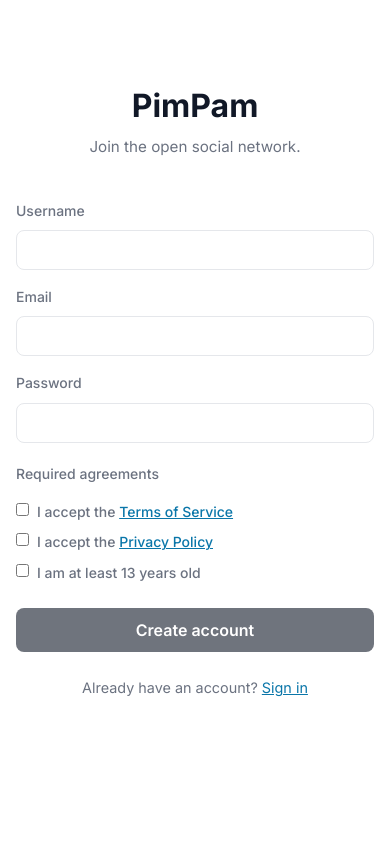
Register › shows error when registration fails with validation array
In the field labelled "Username": (195, 250) [16,230,374,270], type "newuser"
In the field labelled "Email": (195, 336) [16,316,374,356], type "new@example.com"
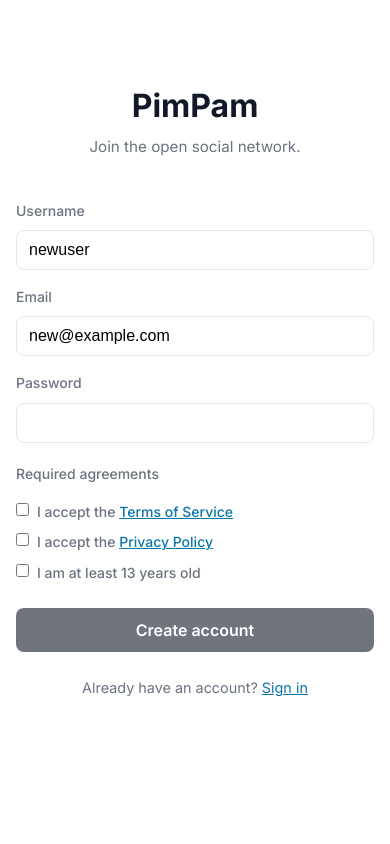
In the password field labelled "Password": (195, 423) [16,403,374,443], type "securepass"
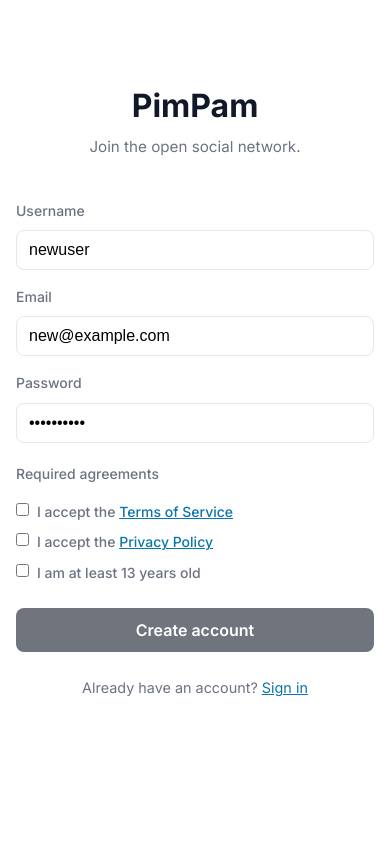
Click the checkbox labelled "I accept the Terms of Service": (22, 510) [16,503,29,516]
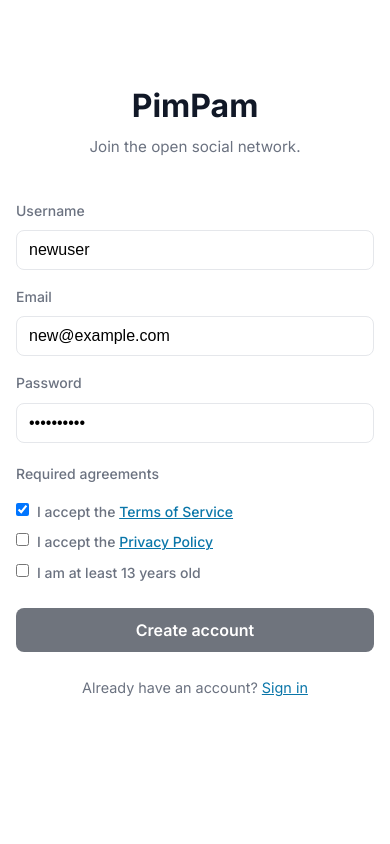
Click the checkbox labelled "I accept the Privacy Policy": (22, 540) [16,534,29,546]
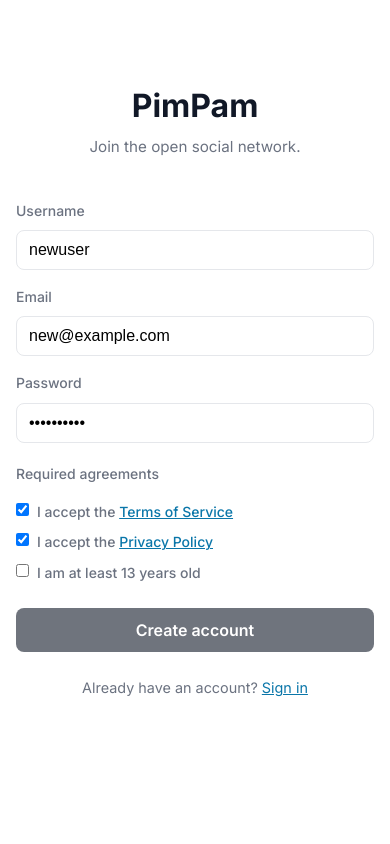
Click the checkbox labelled "I am at least 13 years old": (22, 570) [16,564,29,577]
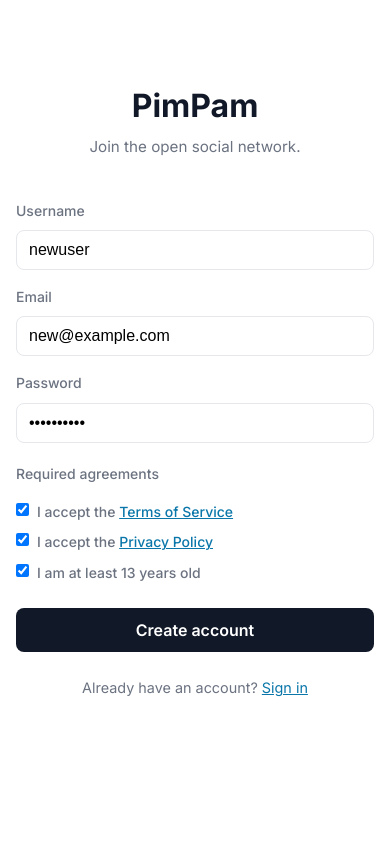
Click the button "Create account": (195, 630) [16,608,374,652]
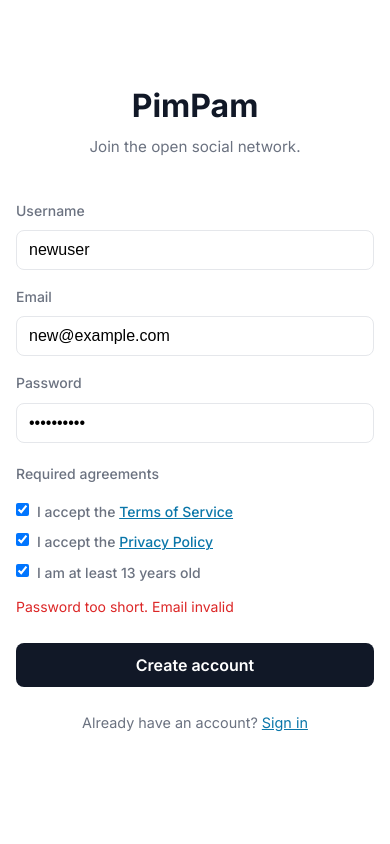
Expected: the message reads "Password too short. Email invalid", [16,598,234,615]
